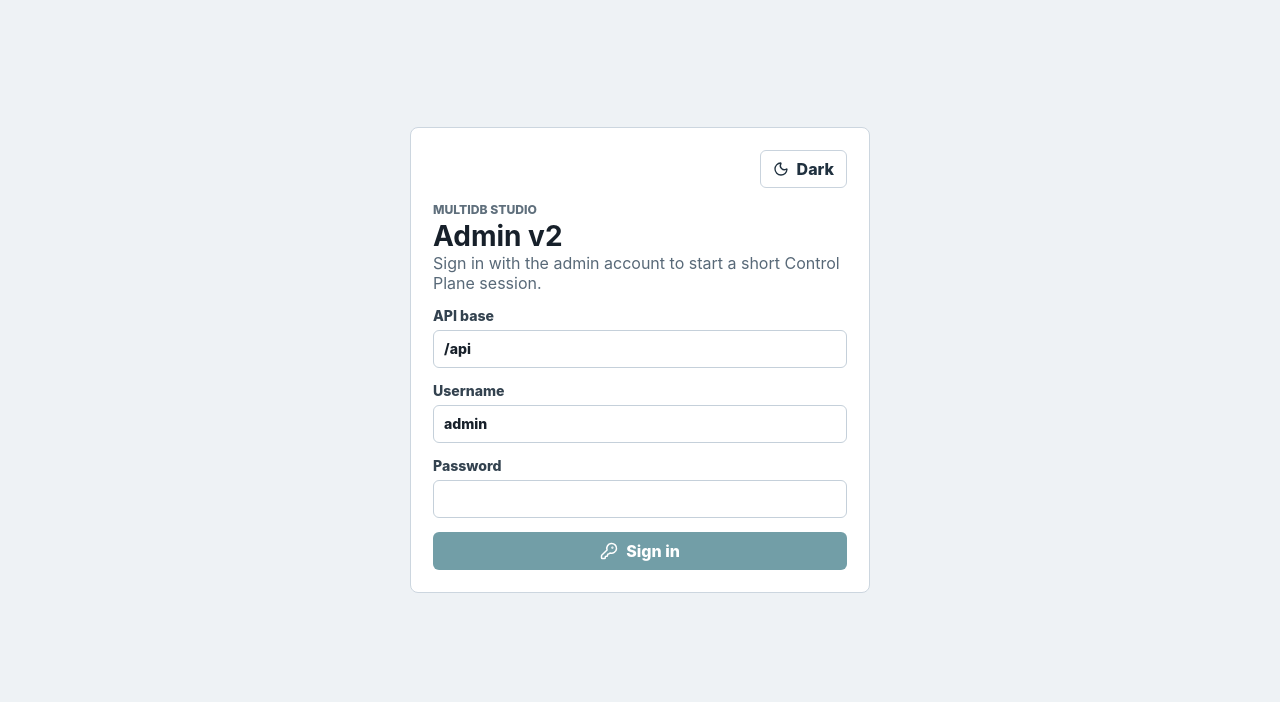
Test: App › loads the operator overview from the Control Plane
Type "secret" into the password field labelled "Password" at (640, 499), box 433,480 -> 847,518
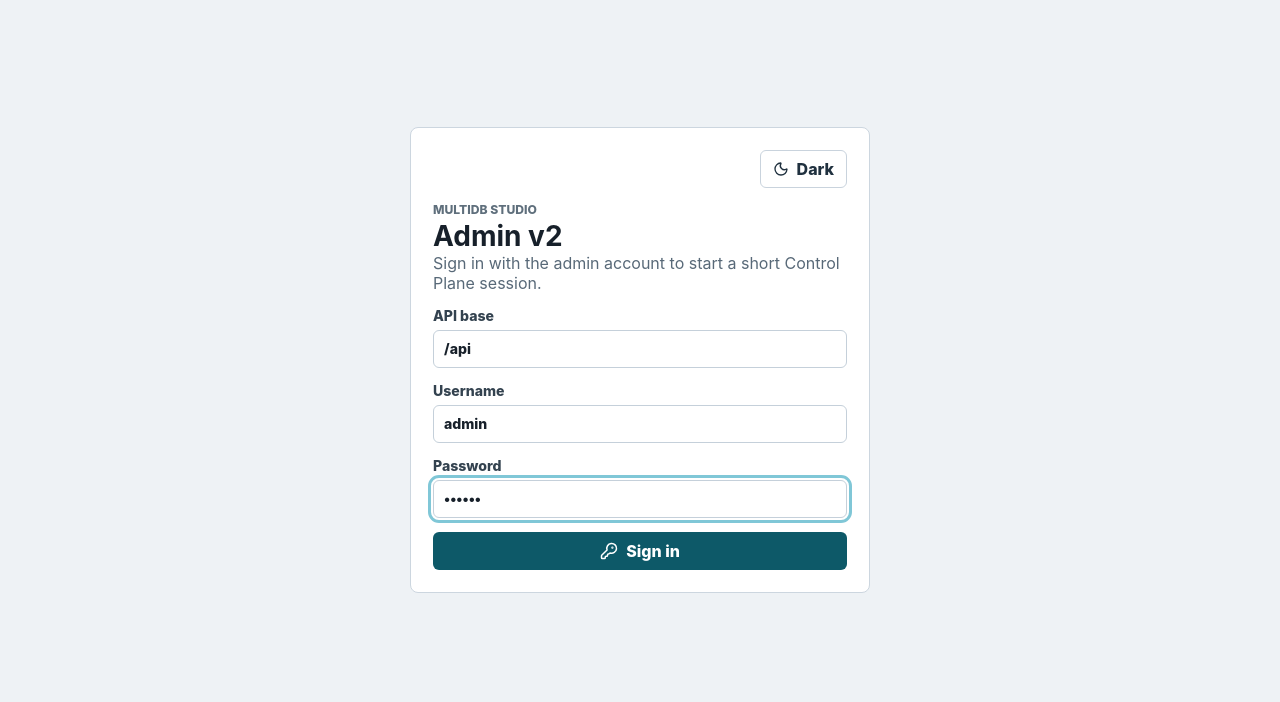
Click the button "Sign in" at (640, 551), box 433,532 -> 847,570
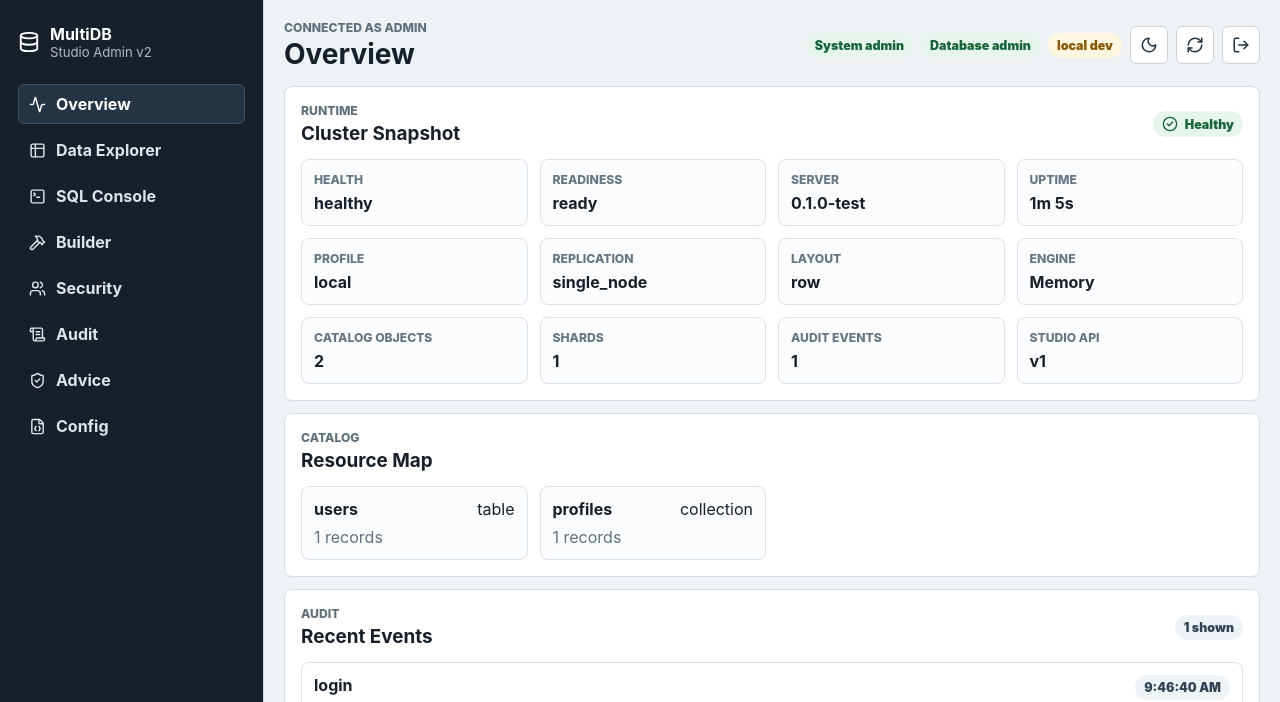
Expected: the text "0.1.0-test" is shown, 791,193 -> 865,213
Expected: the text "users" is shown, 314,499 -> 358,519
Expected: the text "System admin" is shown, 806,33 -> 913,58
